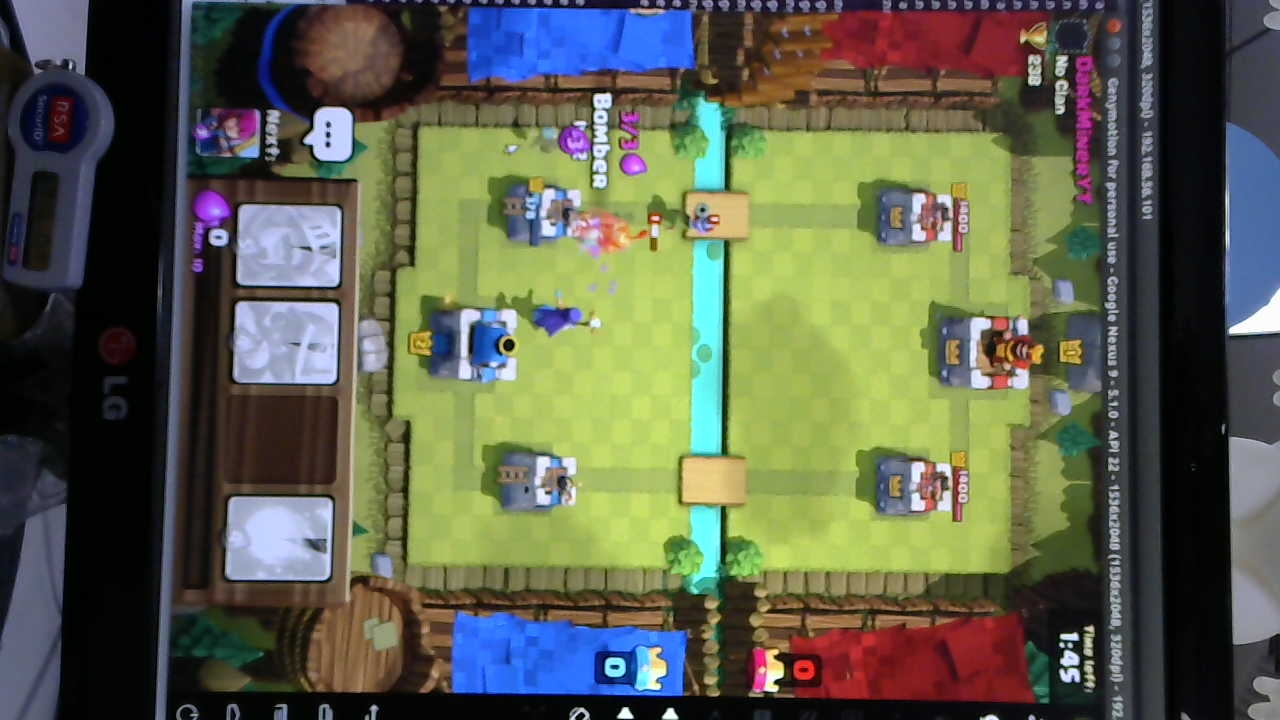arena: (499, 448, 580, 516), (503, 181, 585, 243)
earena: (874, 187, 960, 253), (876, 454, 958, 521)
eking: (928, 312, 1038, 392)
king: (426, 305, 524, 386)
musketeer: (673, 204, 718, 242)
prince: (575, 210, 647, 255)
witch: (524, 300, 606, 339)
